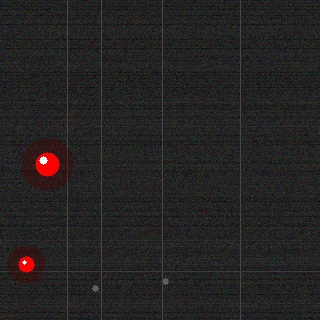red_fault: (33, 150, 61, 178), (16, 254, 36, 274)
